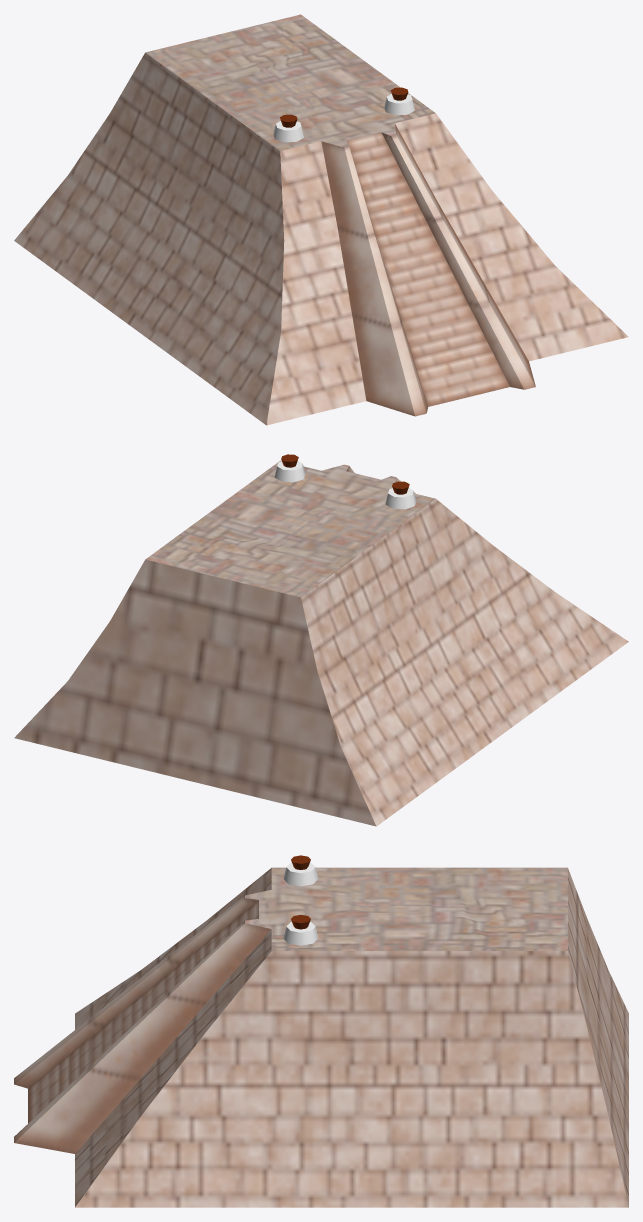
The model's file is TempleWithoutTemple.fbx.
3 renders of one model, top to bottom at view 1: azimuth 30°, elevation 25°; view 2: azimuth 150°, elevation 25°; view 3: azimuth 270°, elevation 25°, orthographic. The views are drawn at different scales.
Parts seen in each view (by area): view 1: m1_templo; view 2: m1_templo; view 3: m1_templo.
Boxes of the visible parts, x1=… form: m1_templo: x1=14, y1=14, x2=628, y2=425; m1_templo: x1=14, y1=454, x2=628, y2=826; m1_templo: x1=14, y1=855, x2=628, y2=1207.
Size of the model in its own units: 9288 by 4932 by 12439.
Materials: 1 (1 with a texture image).
